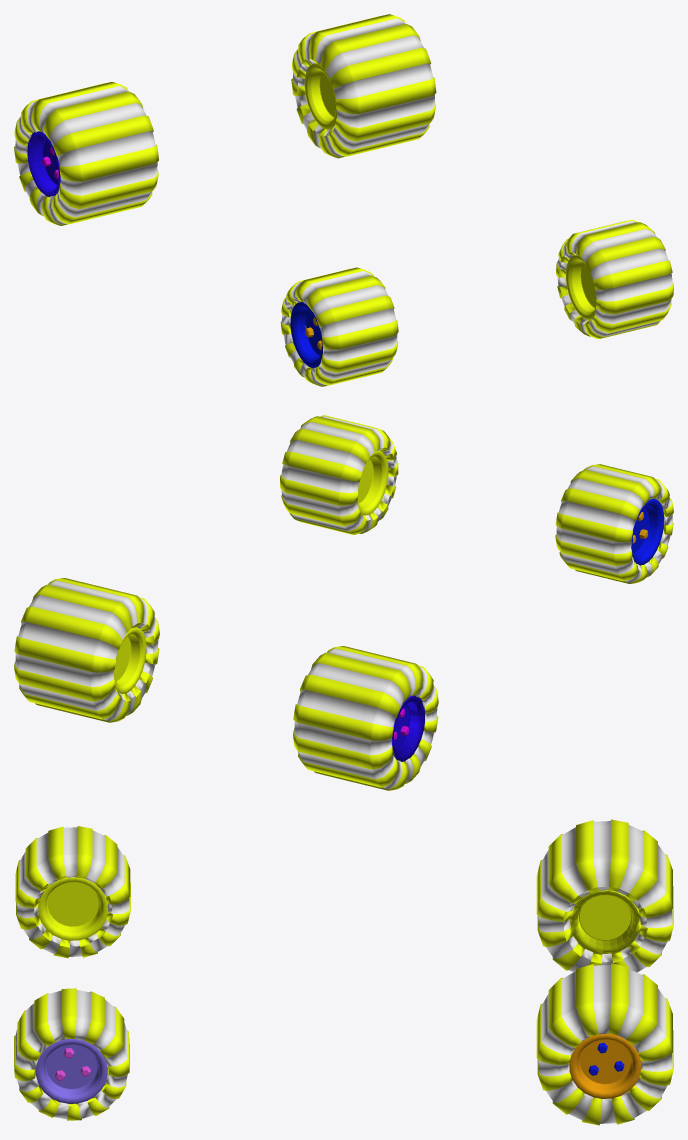
The model's file is KartWheels-SIX.fbx.
The picture shows the model from 3 angles, top to bottom: view 1: azimuth 30°, elevation 25°; view 2: azimuth 150°, elevation 25°; view 3: azimuth 270°, elevation 25°; orthographic projection. The views are drawn at different scales.
Parts seen in each view (by area): view 1: WheelsRearRight, WheelrearLeft, WheelFrontRight, WheelFrontLeft; view 2: WheelrearLeft, WheelsRearRight, WheelFrontRight, WheelFrontLeft; view 3: WheelrearLeft, WheelsRearRight, WheelFrontRight, WheelFrontLeft.
Boxes of the visible parts, left/top/right/bottom form: WheelsRearRight: left=14, top=82, right=158, bottom=225; WheelrearLeft: left=291, top=14, right=436, bottom=158; WheelFrontRight: left=280, top=267, right=398, bottom=386; WheelFrontLeft: left=556, top=220, right=673, bottom=338; WheelrearLeft: left=14, top=578, right=159, bottom=722; WheelsRearRight: left=293, top=646, right=438, bottom=790; WheelFrontRight: left=555, top=464, right=673, bottom=583; WheelFrontLeft: left=280, top=415, right=398, bottom=534; WheelrearLeft: left=536, top=963, right=673, bottom=1125; WheelsRearRight: left=536, top=819, right=673, bottom=972; WheelFrontRight: left=15, top=826, right=130, bottom=958; WheelFrontLeft: left=14, top=988, right=129, bottom=1120.
Bounding box in the file's own units: 108 × 32.7 × 157.
